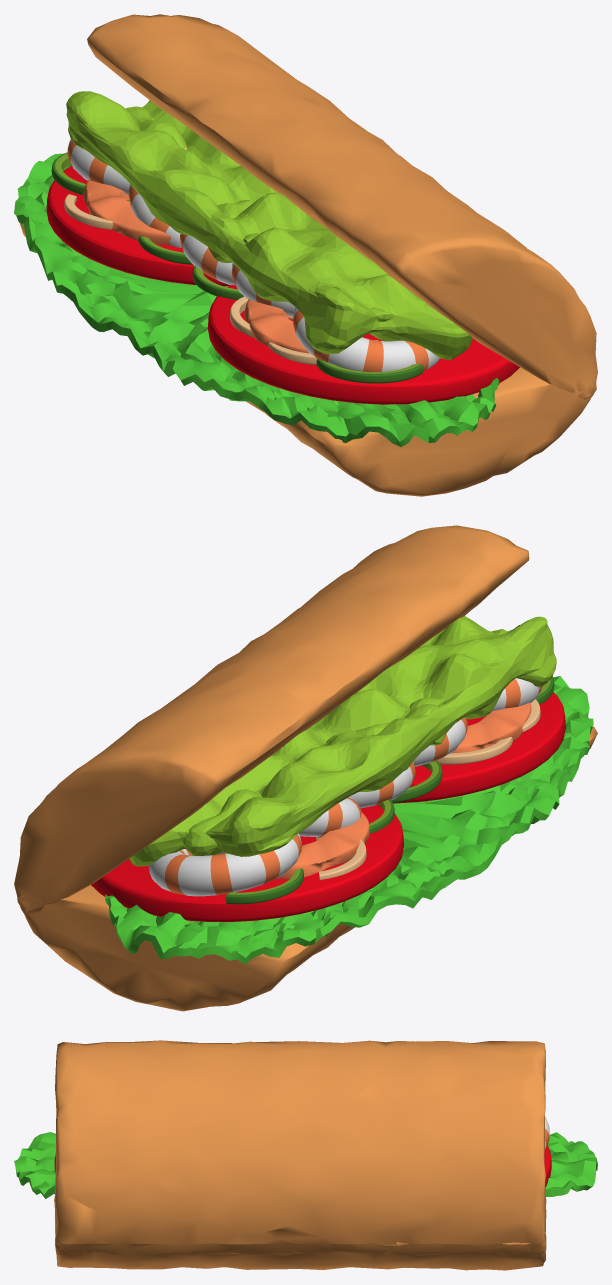
Rendered from sandWitch.glb.
3 renders of one model, top to bottom at view 1: azimuth 30°, elevation 25°; view 2: azimuth 150°, elevation 25°; view 3: azimuth 270°, elevation 25°, orthographic. The views are drawn at different scales.
Visible parts, largest first — view 1: 円柱.002, 立方体, 円, 円.002, 円.001, トーラス.004, 円.011, 円.012, トーラス, 円.006, トーラス.002, トーラス.001 (+4 smaller); view 2: 円柱.002, 立方体, 円, 円.001, 円.002, トーラス, 円.011, 円.012, トーラス.001, トーラス.002, 円.003, トーラス.003 (+4 smaller); view 3: 円柱.002, 円.
Boxes of the visible parts, x1,y1,x2,y2 form: 円柱.002: (20,14,597,496); 立方体: (66,91,472,360); 円: (14,153,499,446); 円.002: (208,285,519,404); 円.001: (46,165,229,286); トーラス.004: (293,307,440,371); 円.011: (83,180,171,245); 円.012: (244,299,309,353); トーラス: (67,139,129,195); 円.006: (316,359,423,383); トーラス.002: (180,234,235,285); トーラス.001: (128,146,187,248); 円柱.002: (14,525,597,1011); 立方体: (130,616,556,866); 円: (105,676,593,964); 円.001: (91,805,403,921); 円.002: (393,686,565,803); トーラス: (148,833,301,896); 円.011: (276,812,369,878); 円.012: (450,702,531,753); トーラス.001: (299,797,361,837); トーラス.002: (348,762,415,808); 円.003: (226,868,303,904); トーラス.003: (413,717,467,766); 円柱.002: (54,1040,546,1270); 円: (14,1132,597,1198).
Size of the model in its own units: 2.4 by 1.75 by 4.72.
